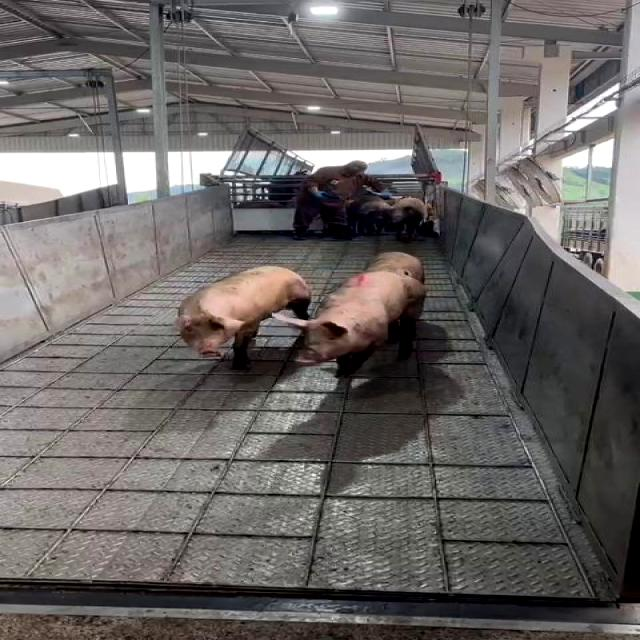pig: (278, 272, 424, 375), (176, 267, 311, 367), (364, 253, 423, 283)
